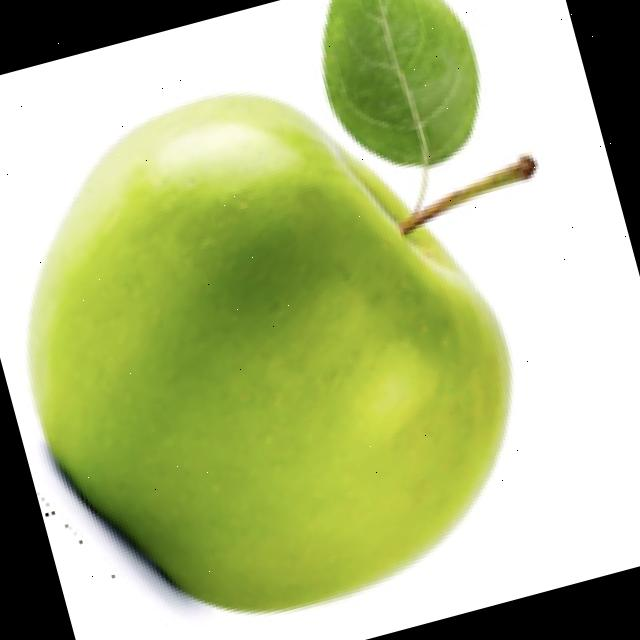apple: (22, 0, 541, 620)
